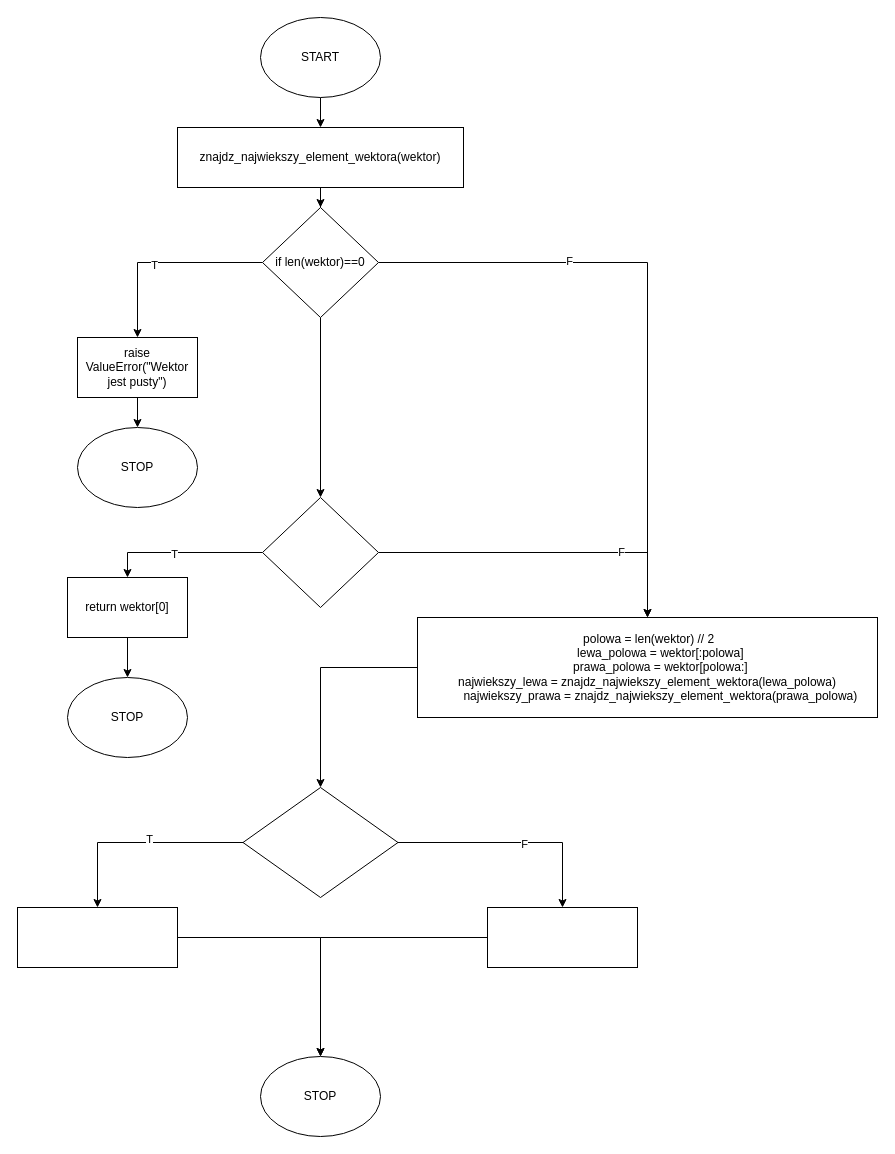
The diagram is 895 pixels wide and 1154 high, and some of its shapes have lost their labels. Here are the shapes that lost their labels. From the top down, the centre of each, then its label:
At pixel 320 552: "elif len(wektor)==1".
At pixel 320 842: "if najwiekszy_lewa > najwiekszy_prawa".
At pixel 97 937: "return najwiekszy_lewa".
At pixel 562 937: "return najwiekszy_prawa".
